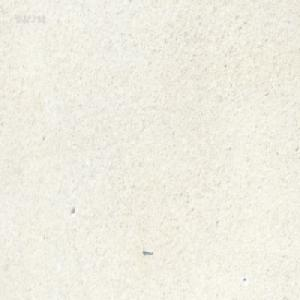Nail: (142, 247, 153, 255)
